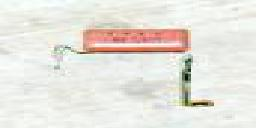Electrolytic-capacitor: (43, 22, 195, 69)
